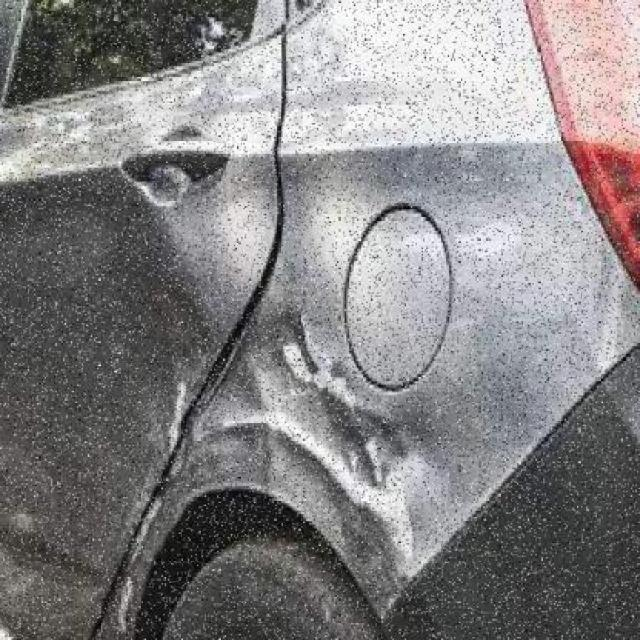doorouter-dent: (0, 77, 197, 513)
quaterpanel-dent: (267, 25, 516, 585)
